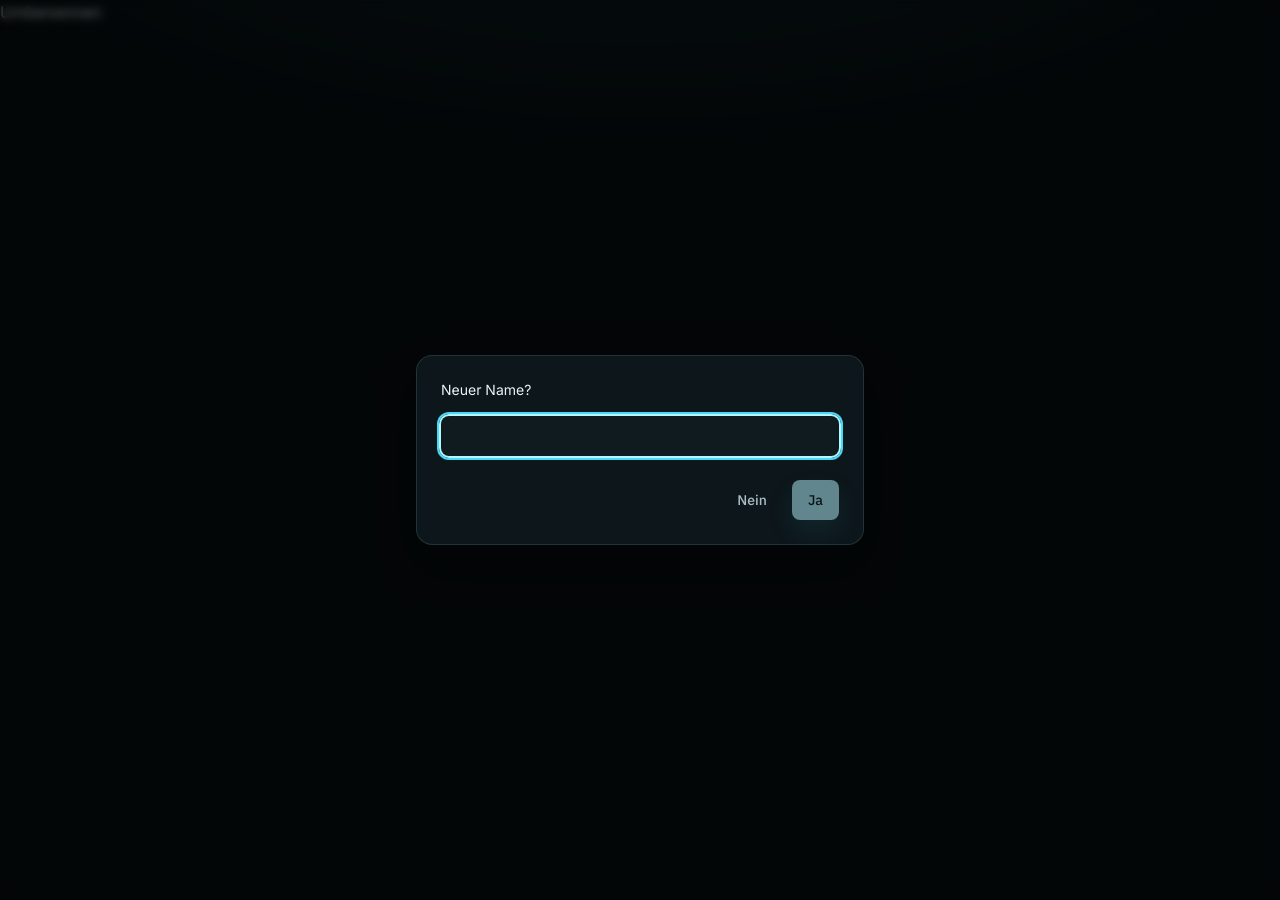
it: PromptDialog › gibt den Fokus nach dem Bestätigen an den Auslöser zurück
Type "neuer-name" into the field at (640, 436), box [441,416,839,456]
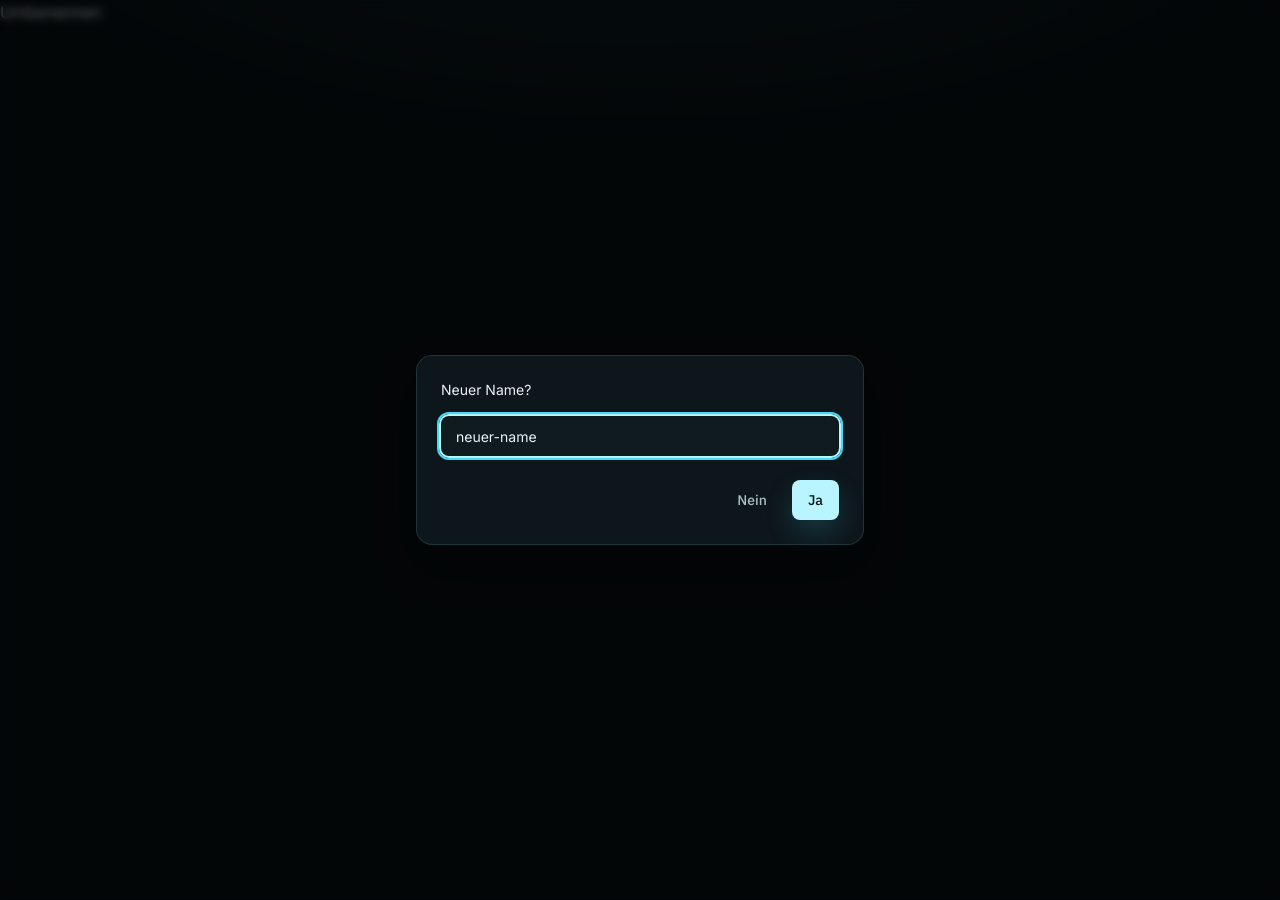
Click the button "Ja" at (815, 500), box [792,480,839,520]
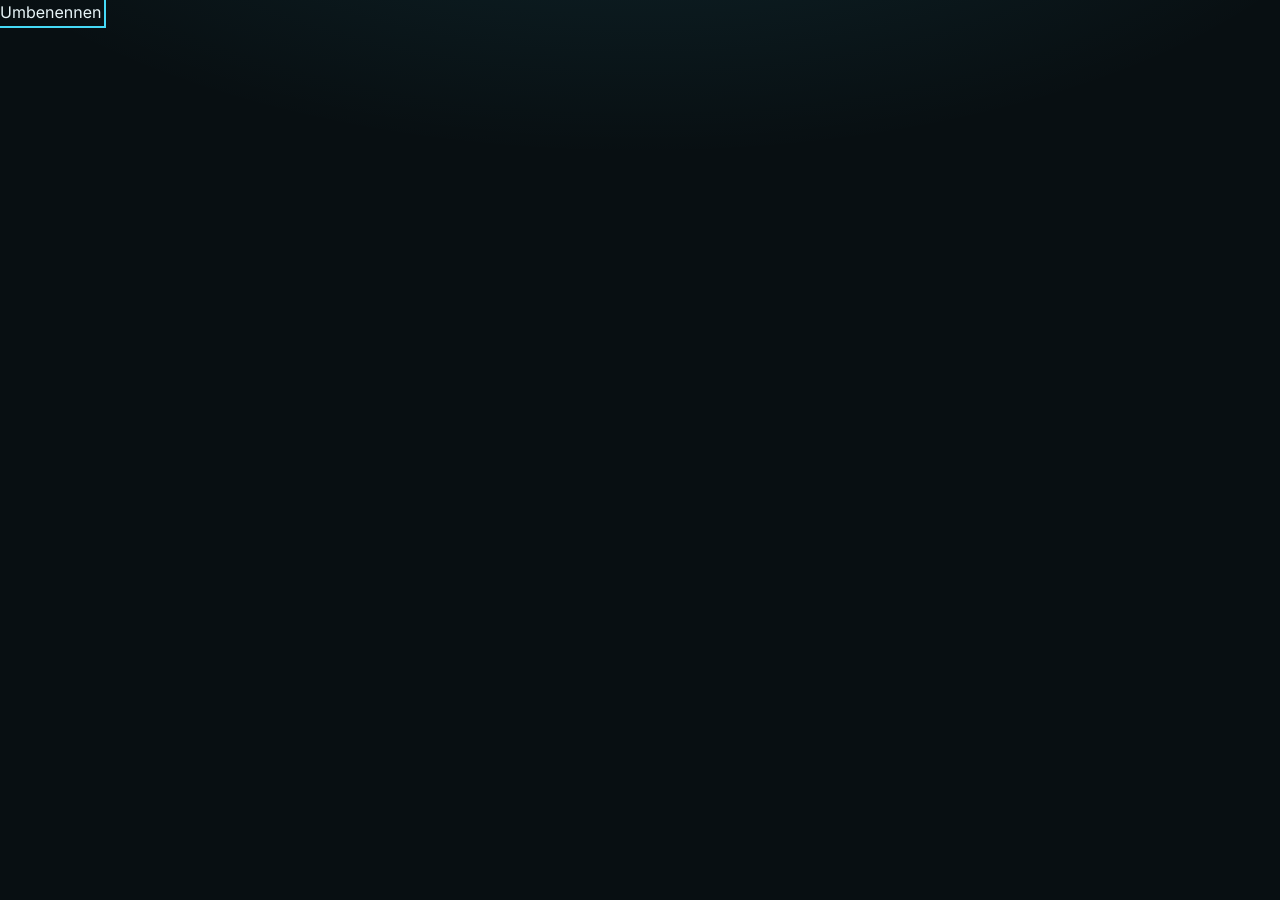
Result: the dialog is gone
